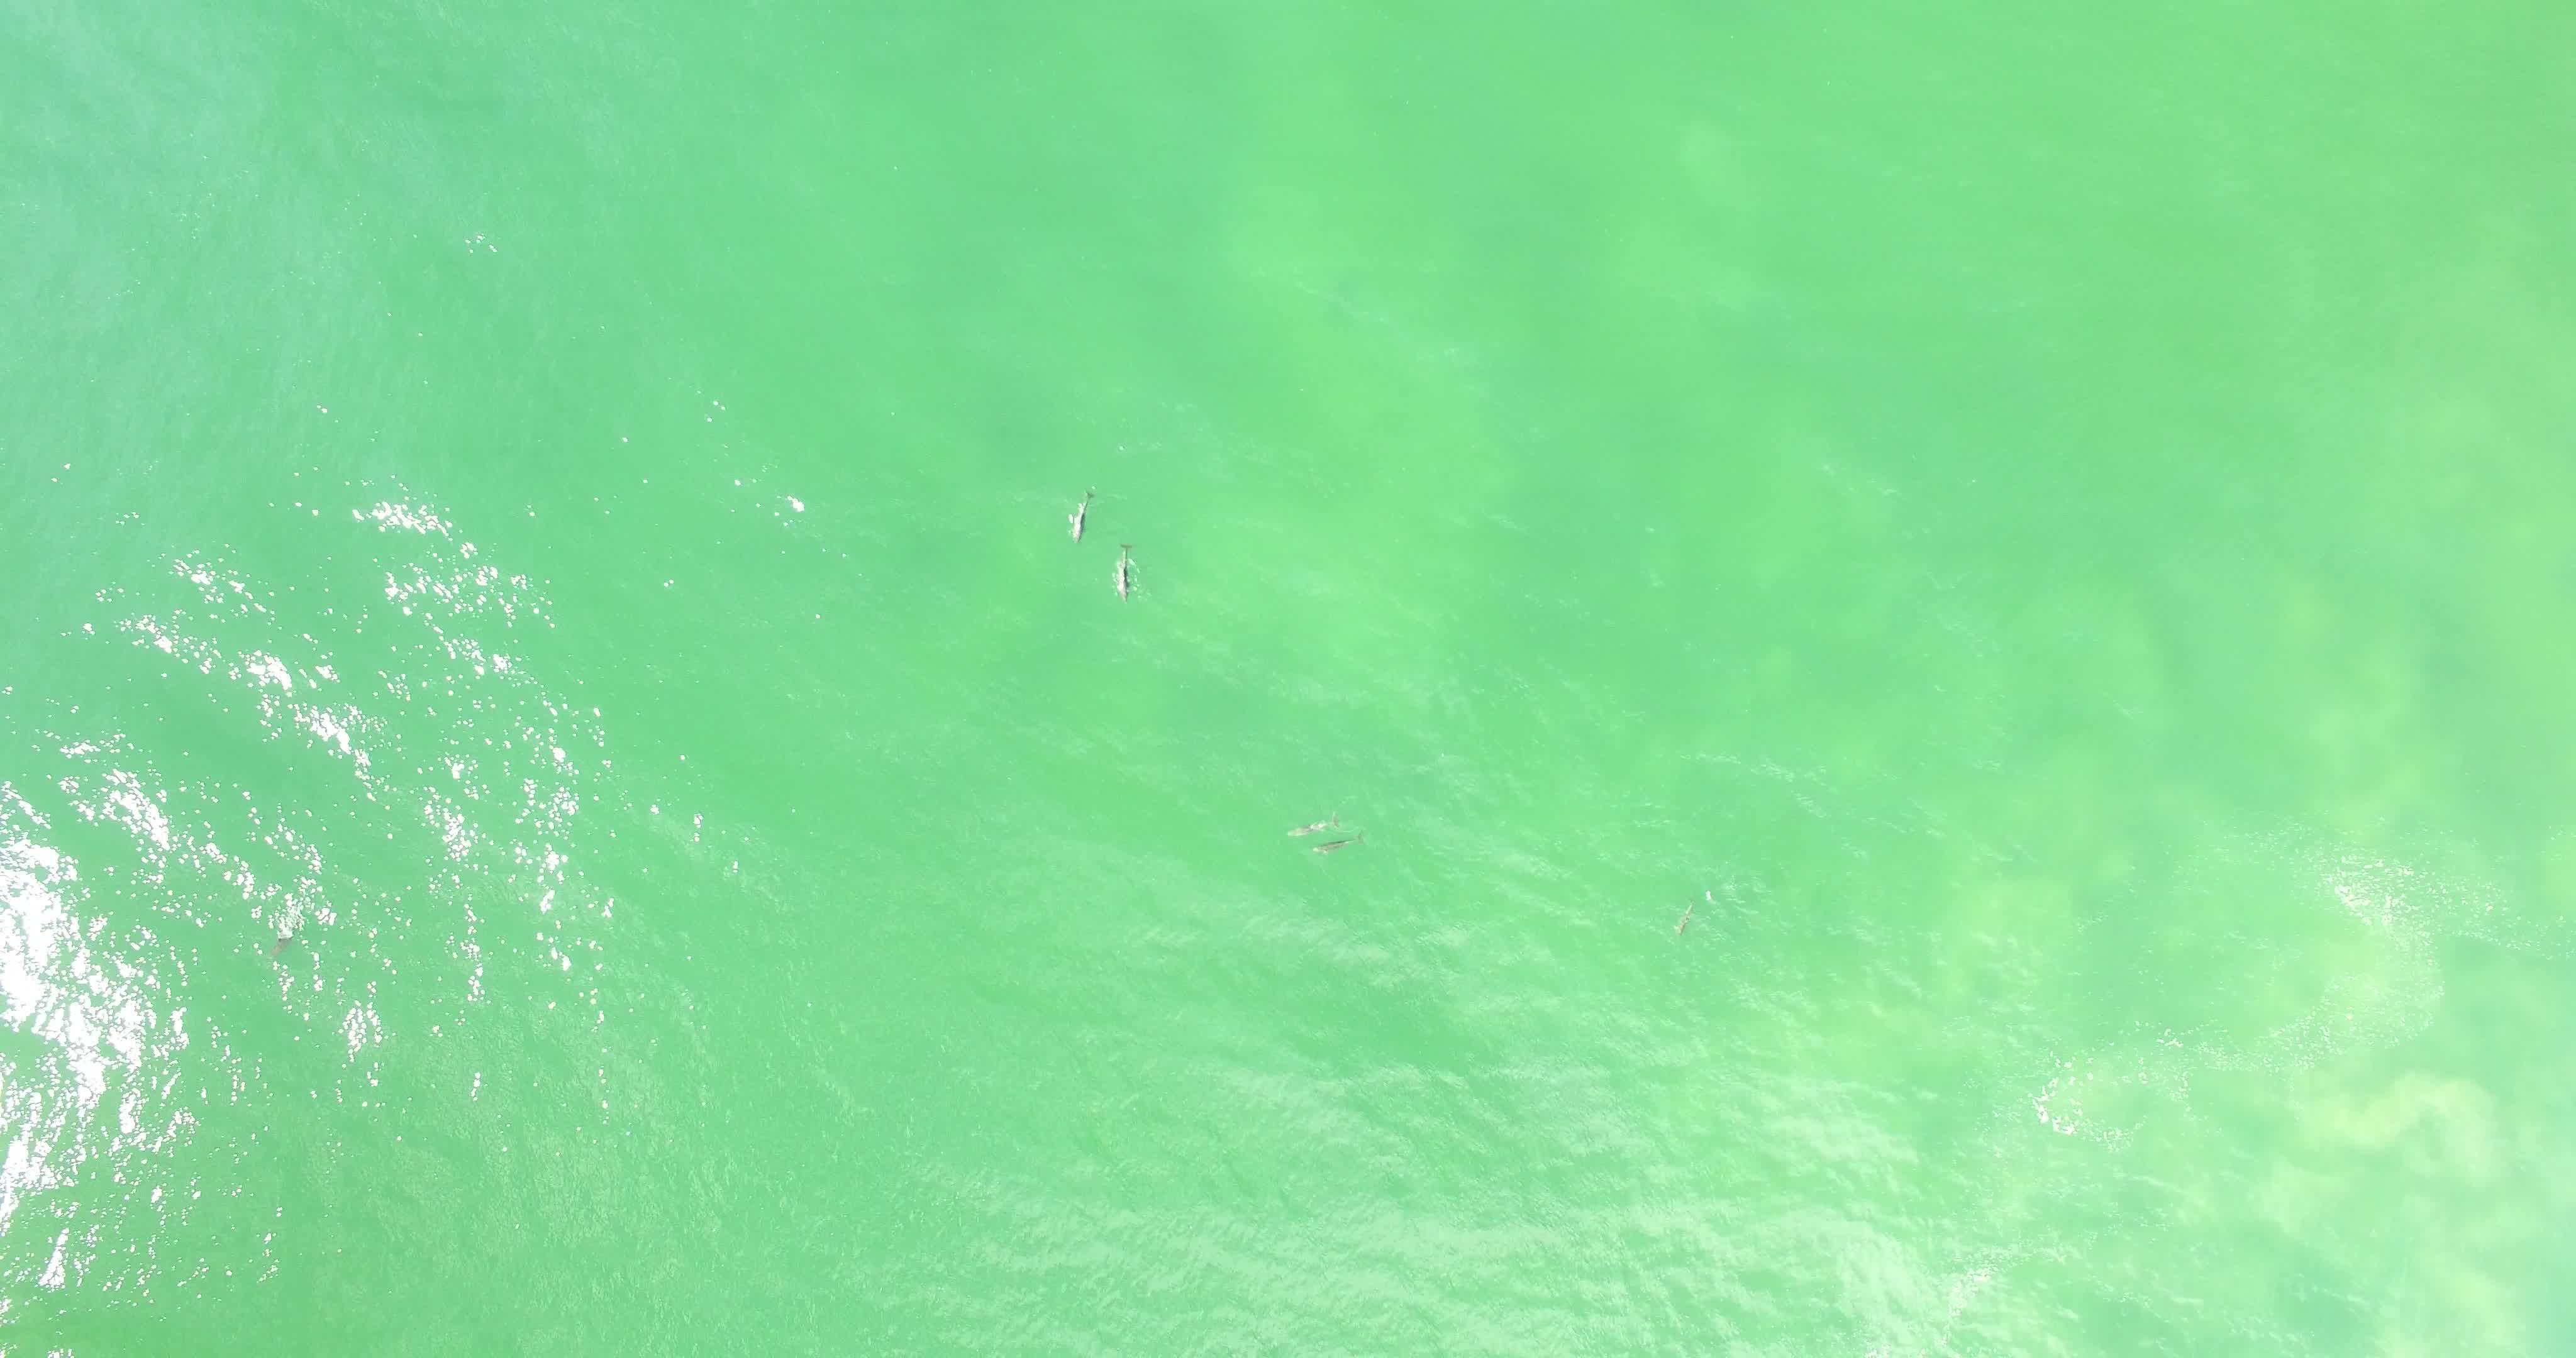dolphin: (1041, 455, 1101, 557), (1661, 878, 1731, 949), (1095, 516, 1143, 617), (1286, 814, 1368, 862), (1276, 794, 1343, 837)
